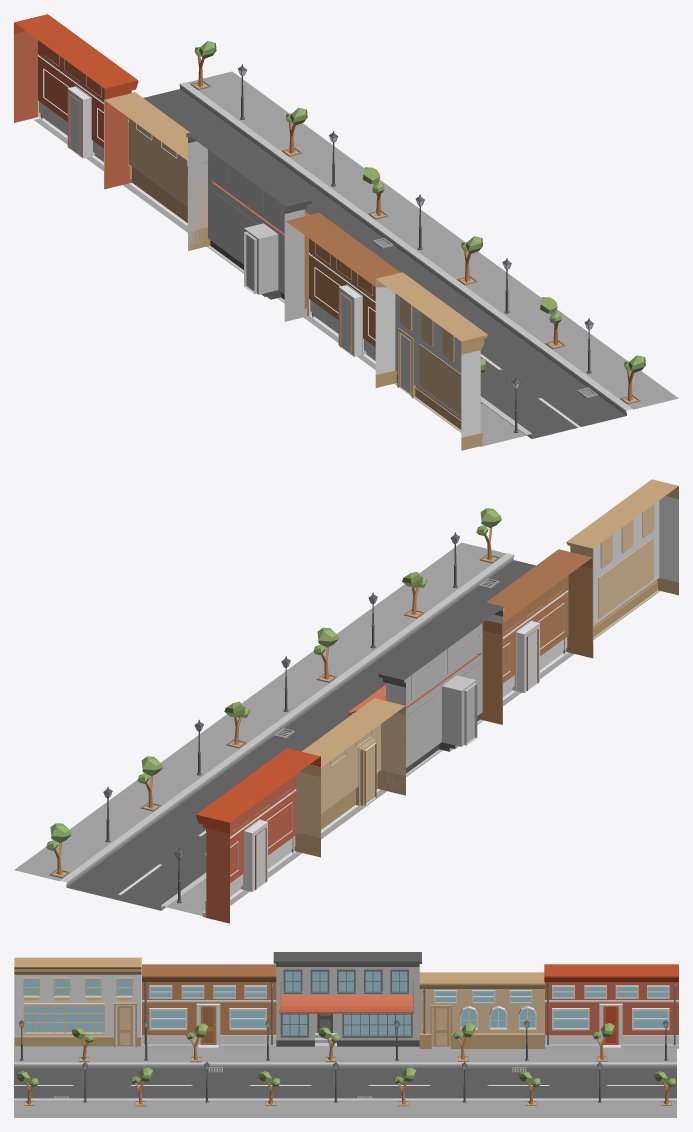
The model's file is Window_Display_For_Caffee.fbx.
3 renders of one model, top to bottom at view 1: azimuth 30°, elevation 25°; view 2: azimuth 150°, elevation 25°; view 3: azimuth 270°, elevation 25°, orthographic. The views are drawn at different scales.
Parts seen in each view (by area): view 1: Road, Building_3, Building_1, Building_5, Building_4, Building_2, Trees, Lamp_Post; view 2: Road, Building_4, Building_3, Building_1, Building_5, Building_2, Trees, Lamp_Post; view 3: Road, Building_3, Building_5, Building_4, Building_1, Building_2, Trees, Lamp_Post.
Boxes of the visible parts, x1,y1,x2,y2 form: Road: (34, 71, 678, 446); Building_3: (186, 127, 311, 321); Building_1: (14, 14, 138, 189); Building_5: (375, 272, 487, 450); Building_4: (286, 212, 400, 364); Building_2: (104, 92, 210, 250); Trees: (191, 41, 645, 404); Lamp_Post: (238, 64, 593, 433); Road: (14, 542, 660, 915); Building_4: (480, 549, 592, 724); Building_3: (348, 600, 504, 795); Building_1: (196, 748, 320, 923); Building_5: (566, 479, 678, 657); Building_2: (294, 698, 405, 857); Trees: (46, 508, 501, 878); Lamp_Post: (103, 532, 459, 903); Road: (14, 1046, 676, 1117); Building_3: (273, 952, 421, 1046); Building_5: (14, 957, 141, 1047); Building_4: (142, 964, 276, 1048); Building_1: (544, 964, 678, 1048); Building_2: (419, 972, 544, 1048); Trees: (16, 1023, 676, 1106); Lamp_Post: (19, 1019, 668, 1102).
Bounding box in the file's own units: 33.14 × 17.5 × 117.
